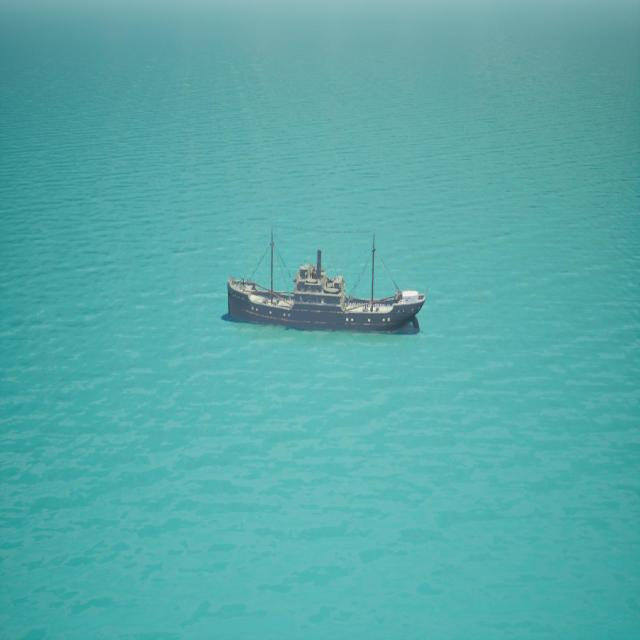fishing ship: (227, 228, 427, 336)
